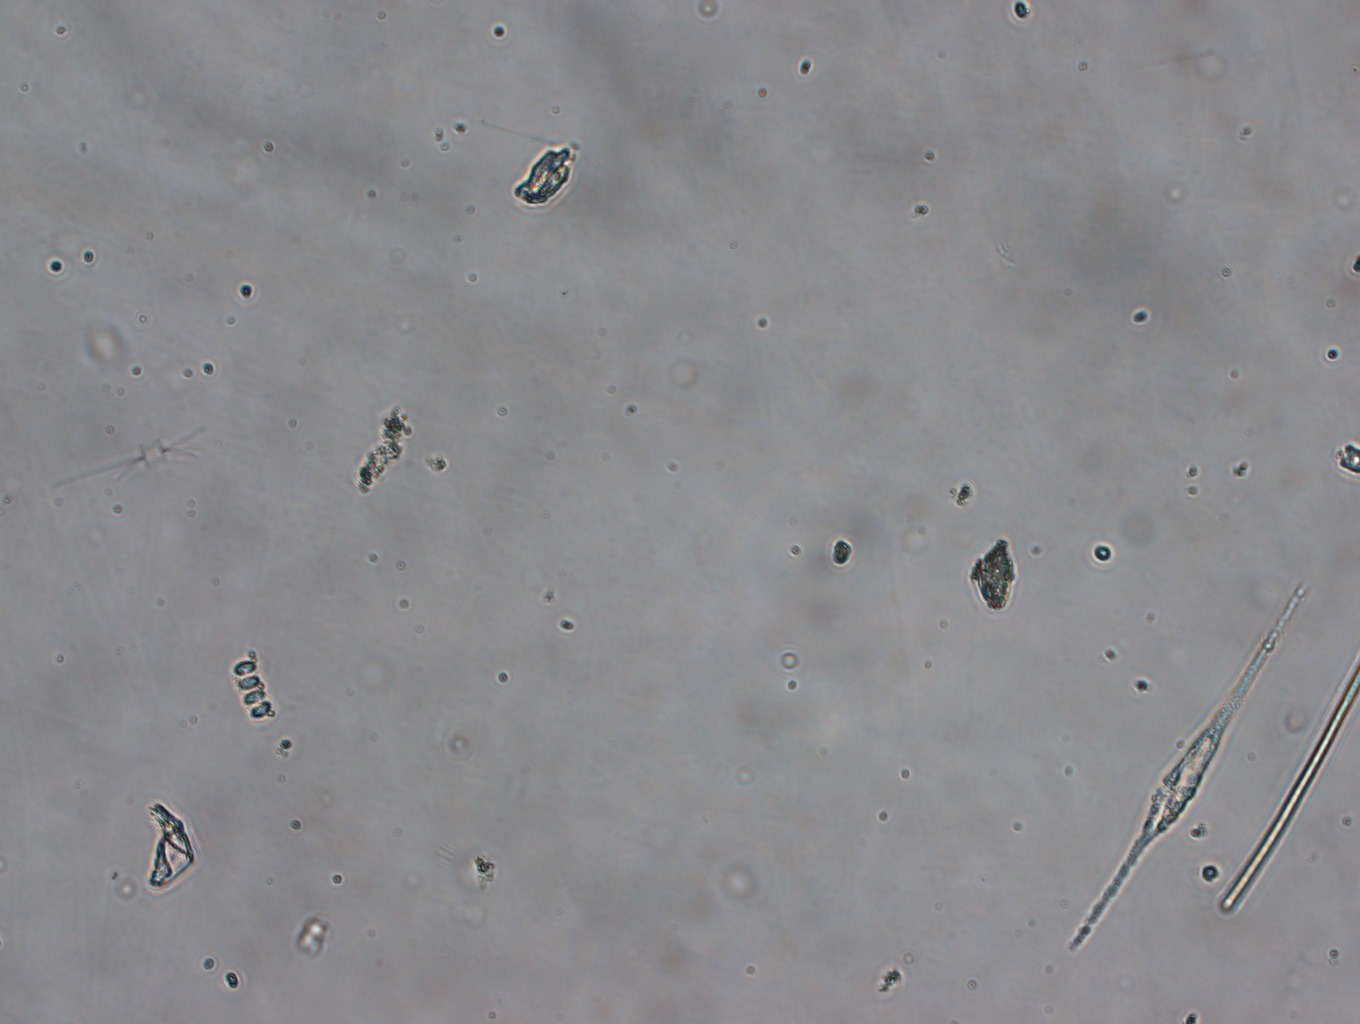ceratium fusus: (1066, 569, 1308, 952)
